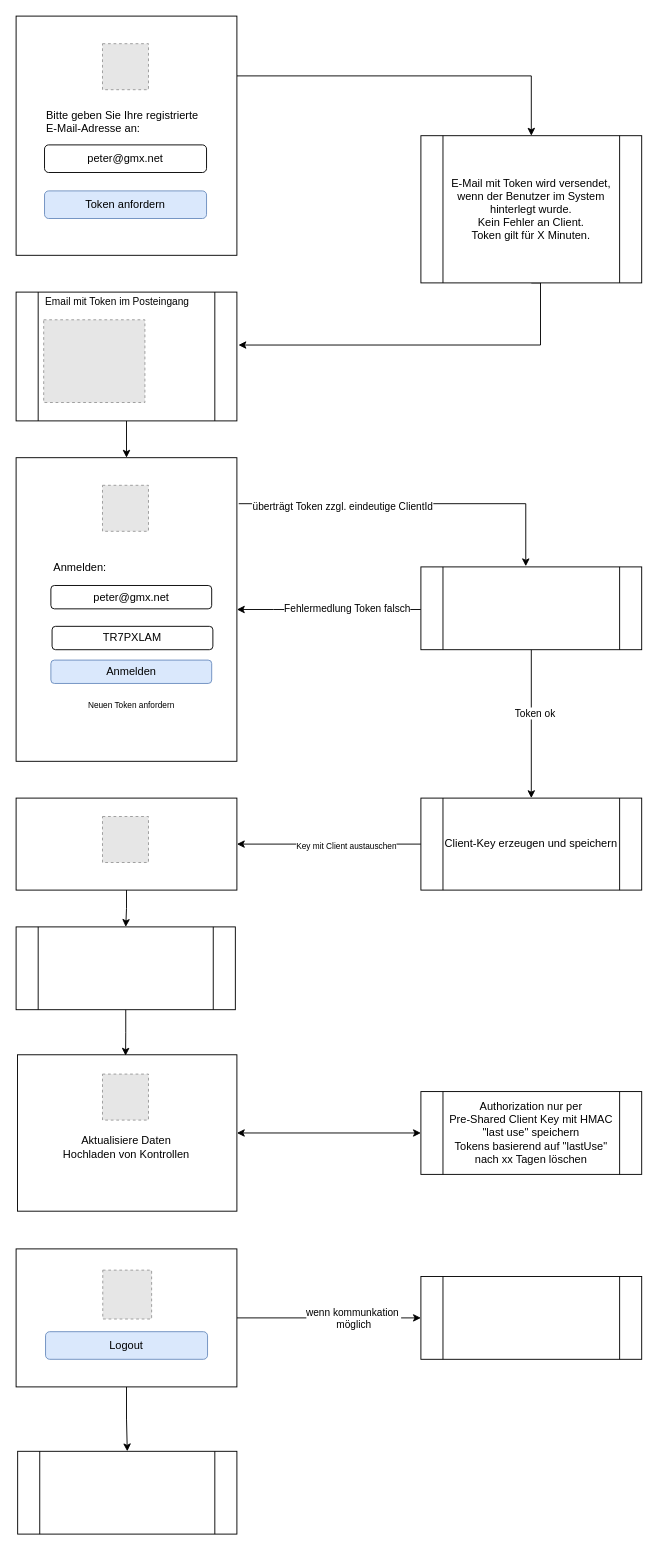
The diagram is 658 pixels wide and 1550 high, and some of its shapes have lost their labels. Grey dashed boxes stand in for pictures. The shapes that lost their labels are listed below. From the top down, each one's centre as x and y in pixels, then its label:
(531,608): Authentifizierung mit Token alter Key zur ClientId wird gelöscht
(125,968): Key am Client wird gespeichert Login erfolgreich
(531,1317): Key am Server wird gelöscht
(127,1492): Key am Client wird gelöscht ClientId bleibt bestehen
